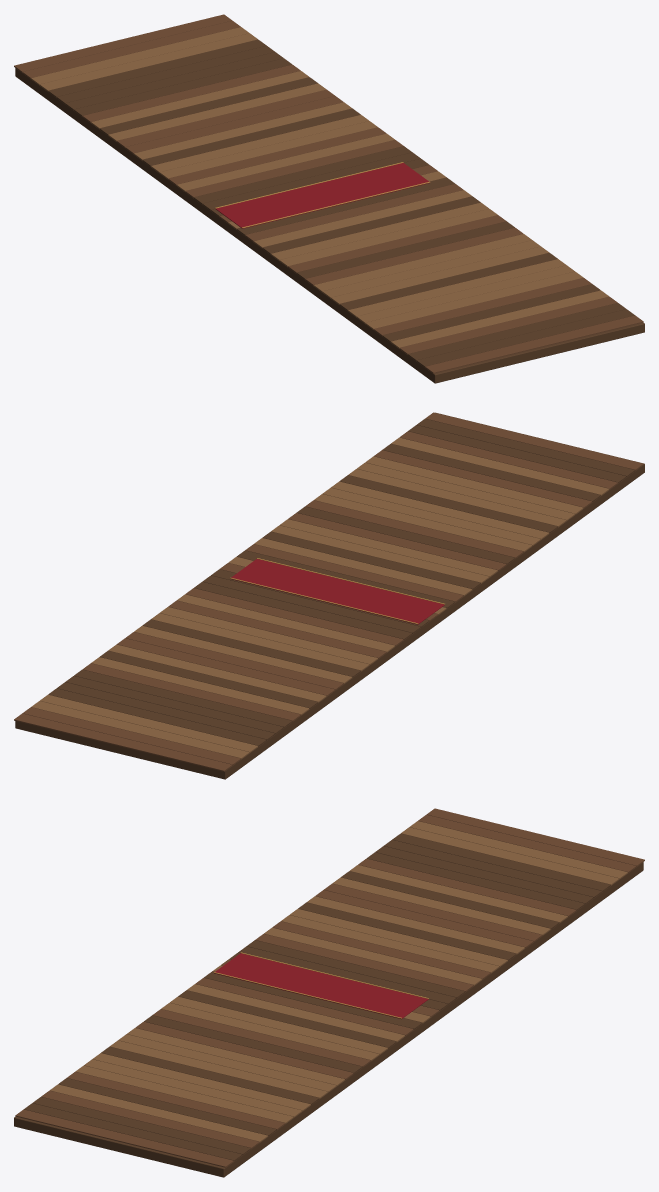
File: SM_CP_AuditoriumDeck.fbx
3 views of the same model, one above another, from view 1: azimuth 30°, elevation 25°; view 2: azimuth 150°, elevation 25°; view 3: azimuth 330°, elevation 25° (orthographic).
Parts seen in each view (by area): view 1: SM_CP_AuditoriumDeck; view 2: SM_CP_AuditoriumDeck; view 3: SM_CP_AuditoriumDeck.
Boxes of the visible parts, left/top/right/bottom form: SM_CP_AuditoriumDeck: left=14, top=14, right=644, bottom=383; SM_CP_AuditoriumDeck: left=14, top=412, right=644, bottom=779; SM_CP_AuditoriumDeck: left=14, top=808, right=644, bottom=1177.
Size of what is drawn, in the model's own units: 850 by 2949 by 44.5.
